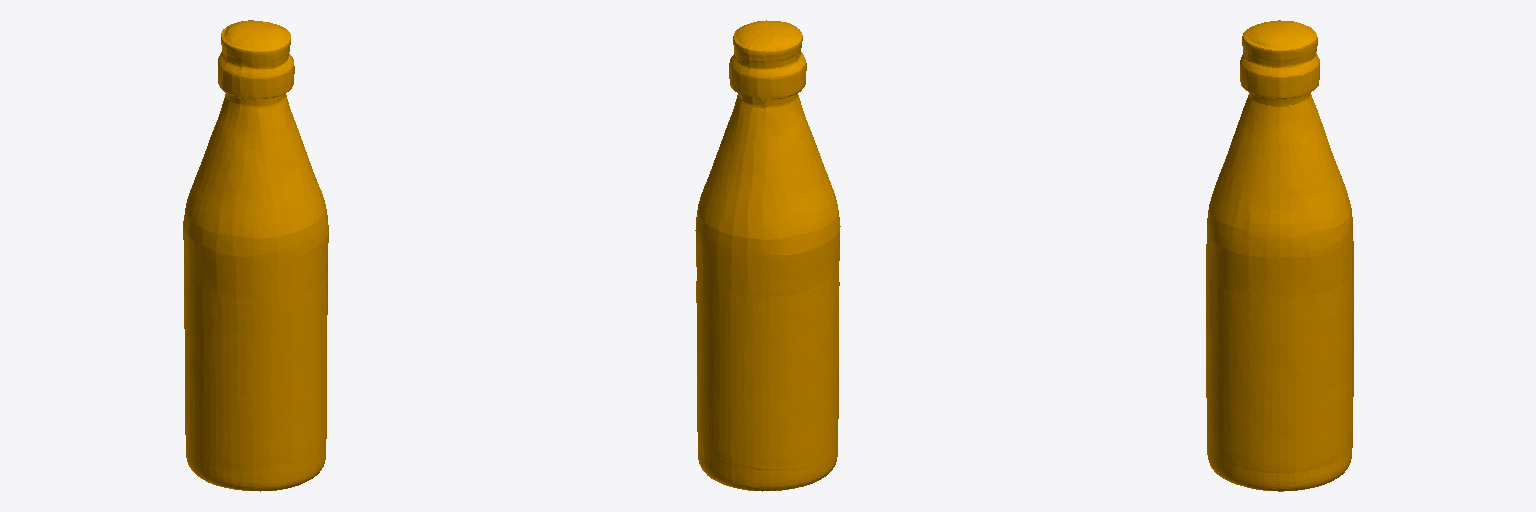
The robot description file, URDF, robot "sample":
<?xml version="1.0" ?>
<robot name="sample">
   <link name="sample">
      <visual>
         <origin xyz="0 0 0" rpy="1.5708 0.0 0.0"/>
         <geometry>
            <mesh filename="mesh/sample.obj" scale="1.0 1.0 1.0"/>
         </geometry>
      </visual>
      <collision>
         <origin xyz="0 0 0" rpy="1.5708 0.0 0.0"/>
         <geometry>
            <mesh filename="mesh/sample_collision.obj" scale="1.0 1.0 1.0"/>
         </geometry>
         <gazebo>
            <mu1>0.70</mu1>
            <mu2>0.55</mu2>
         </gazebo>
      </collision>
      <inertial>
         <mass value="0.4000"/>
         <origin xyz="0 0 0"/>
         <inertia ixx="1.0" ixy="0.0" ixz="0.0" iyy="1.0" iyz="0.0" izz="1.0"/>
      </inertial>
      <extra_info>
         <scale>0.225000</scale>
         <version>v0.1.7</version>
         <category>soda bottle</category>
         <description>green glass bottle with blue label and red star</description>
         <min_height>0.2</min_height>
         <max_height>0.25</max_height>
         <real_height>0.225</real_height>
         <min_mass>0.3</min_mass>
         <max_mass>0.5</max_mass>
         <generate_time>20260228152243</generate_time>
         <gs_model>mesh/sample_gs.ply</gs_model>
      </extra_info>
   </link>
   <custom_data>
      <quality>
         <MeshGeoChecker>YES</MeshGeoChecker>
         <ImageSegChecker>NO. Object is not centered, background is distorted, and segmentation appears incomplete with artifacts.</ImageSegChecker>
         <ImageAestheticChecker>4.235075354576111</ImageAestheticChecker>
         <overall>NO</overall>
      </quality>
   </custom_data>
</robot>

--- Facts derived from the render (not from the file) ---
3 views of the same robot in one strip: view 1: azimuth 30°, elevation 25°; view 2: azimuth 150°, elevation 25°; view 3: azimuth 270°, elevation 25° (orthographic).
Model sample with 1 links and 0 joints (none), rooted at sample, posed every joint at zero.
Links seen in each view (by area): view 1: sample; view 2: sample; view 3: sample.
Link boxes in pixels (bbox=[...]): sample: bbox=[183, 20, 328, 491]; sample: bbox=[695, 20, 840, 491]; sample: bbox=[1206, 20, 1353, 491].
Size in the robot's own frame: 0.067 by 0.0692 by 0.225 metres.
1 mesh visuals loaded from 1 distinct referenced files (1 OBJ).
